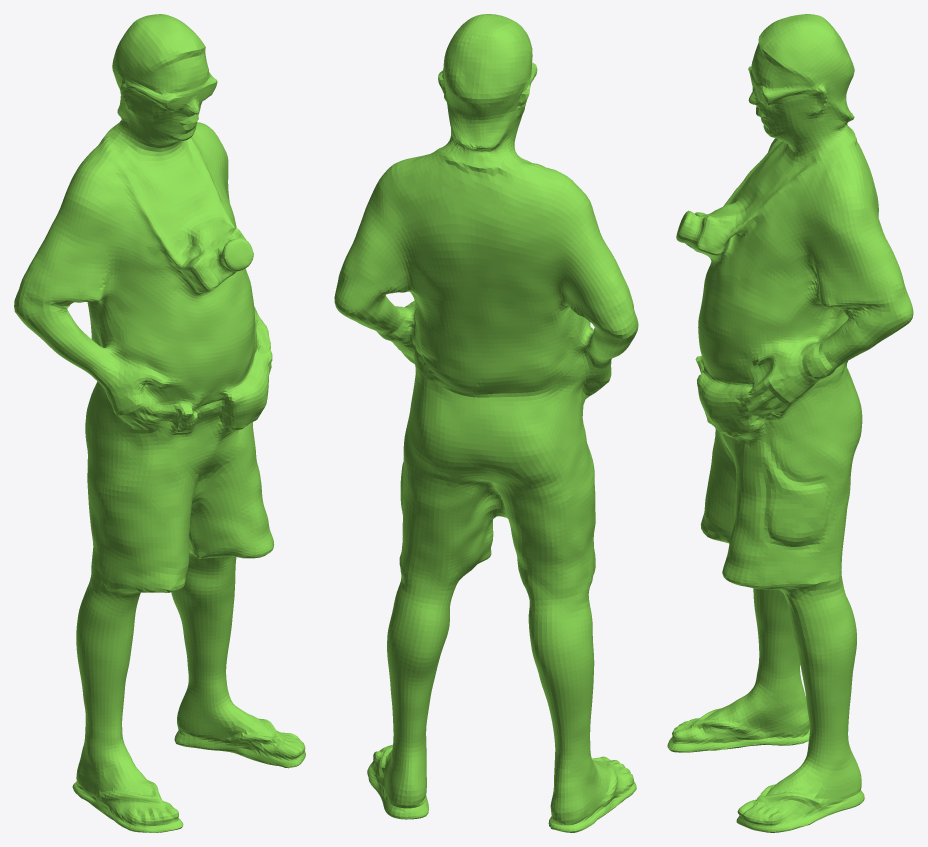
File: Photographer Sculpture_obj.obj
The picture shows the model from 3 angles, left to right: view 1: azimuth 30°, elevation 25°; view 2: azimuth 150°, elevation 25°; view 3: azimuth 270°, elevation 25°; orthographic projection. The views are drawn at different scales.
Visible parts, largest first — view 1: Photographer_Sculpture; view 2: Photographer_Sculpture; view 3: Photographer_Sculpture.
Boxes of the visible parts, <box> form: Photographer_Sculpture: <box>14,14,305,832</box>; Photographer_Sculpture: <box>334,14,638,832</box>; Photographer_Sculpture: <box>667,14,913,832</box>.
Size of the model in its own units: 616 by 1662 by 491.
